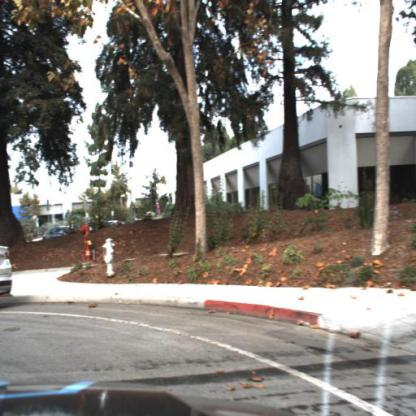car: (1, 239, 17, 307)
